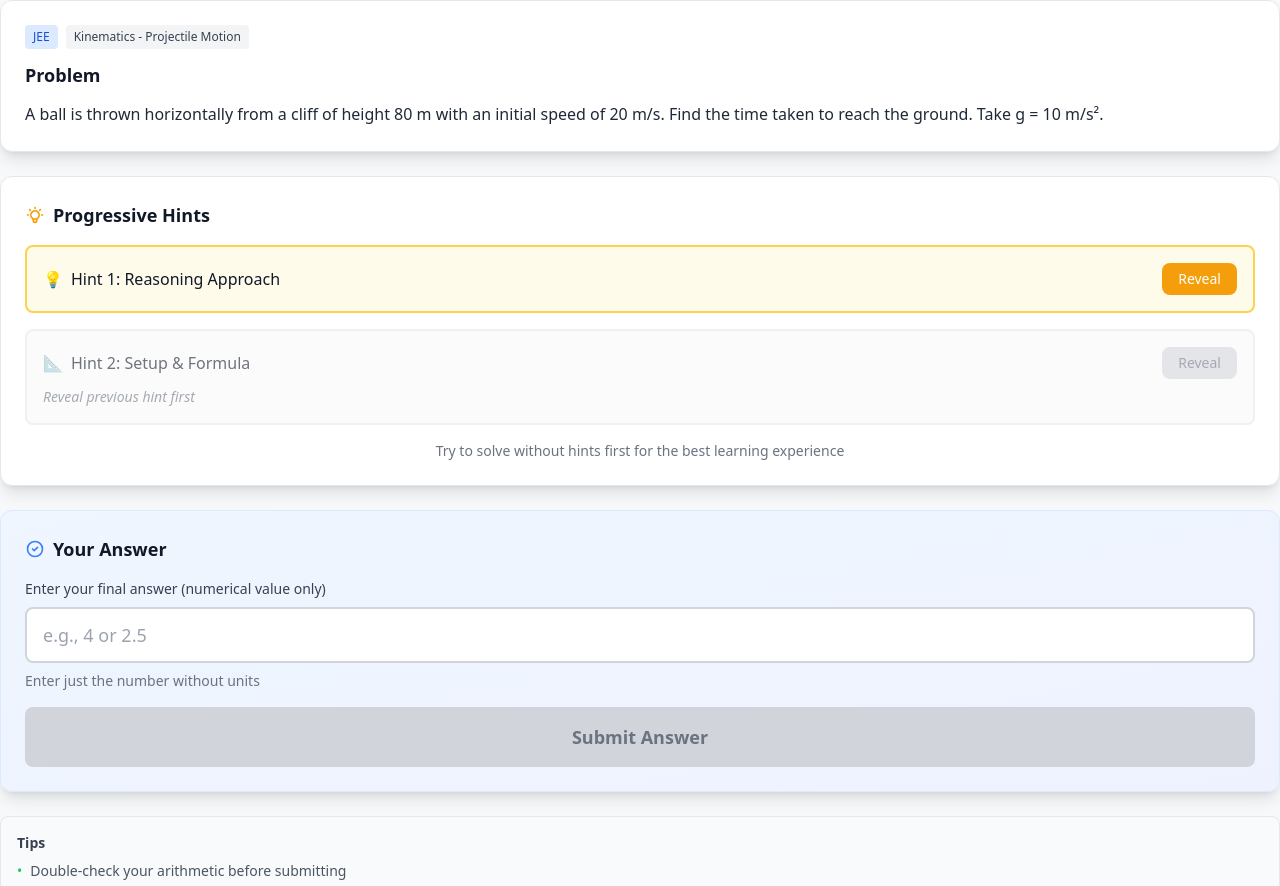
Test case: DemoSolvePhase › Answer Submission › shows loading state while submitting
Type "4" into the field with placeholder "e.g., 4 or 2.5" at (640, 635), box left=25, top=607, right=1255, bottom=663
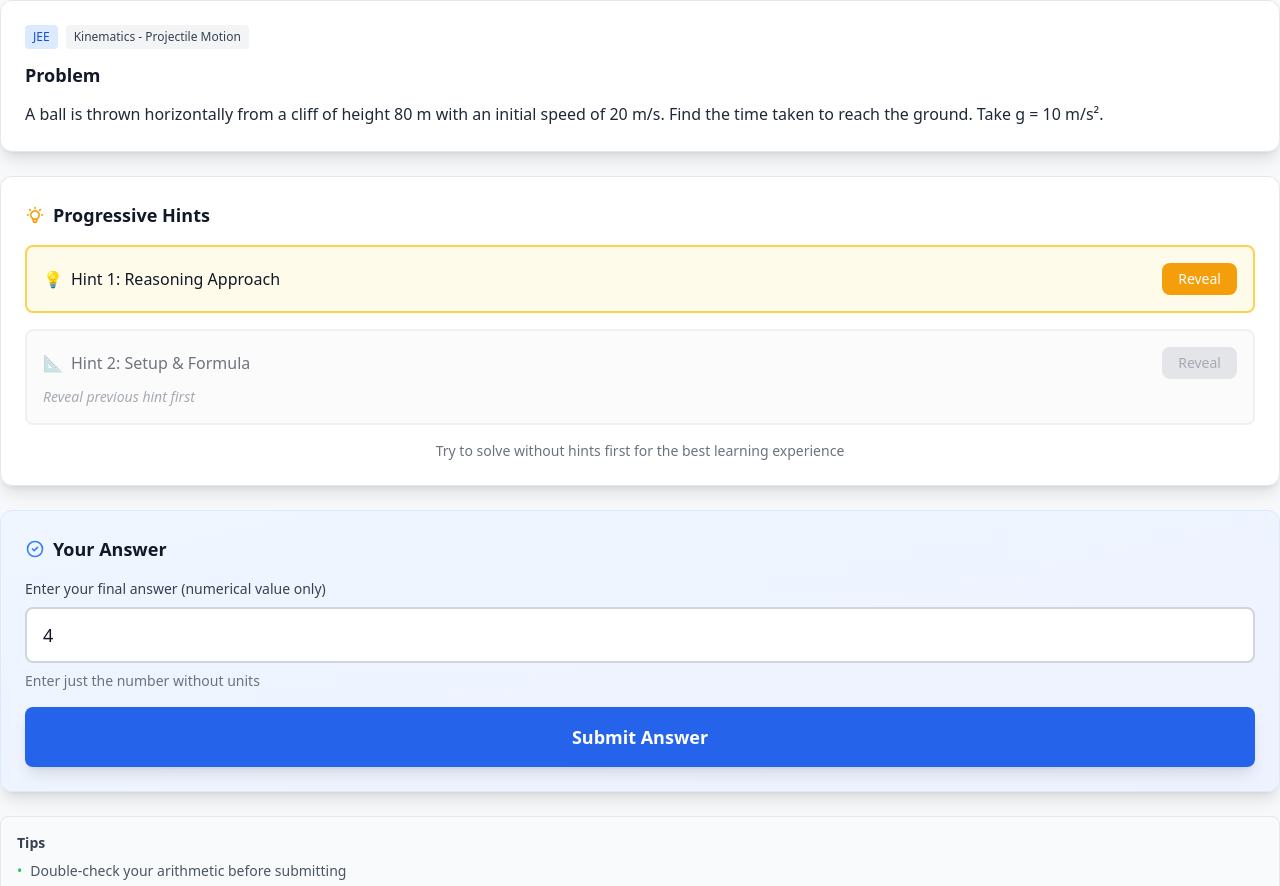
Click the button "Submit Answer" at (640, 737), box left=25, top=707, right=1255, bottom=767
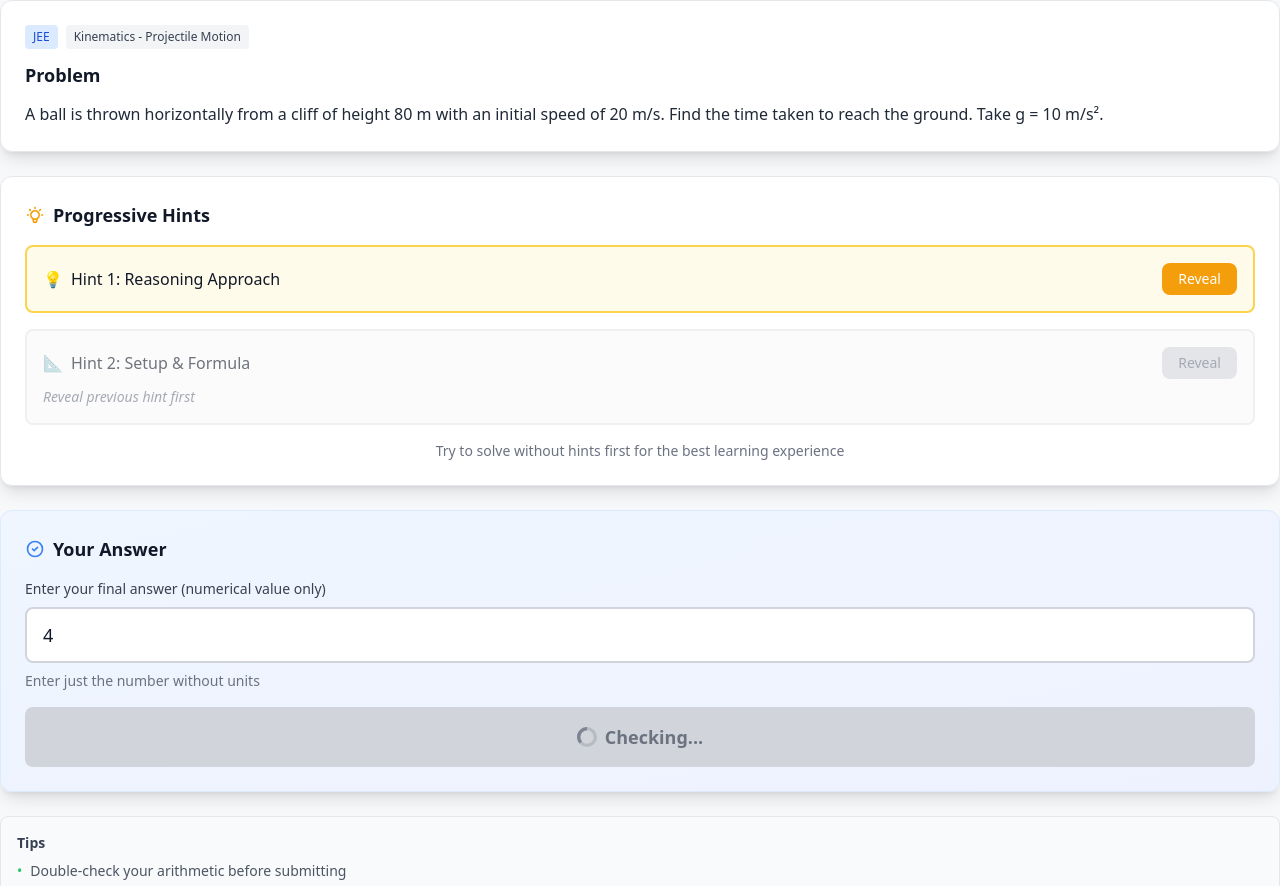
Expected: the text "Checking..." is shown, left=577, top=725, right=703, bottom=749
